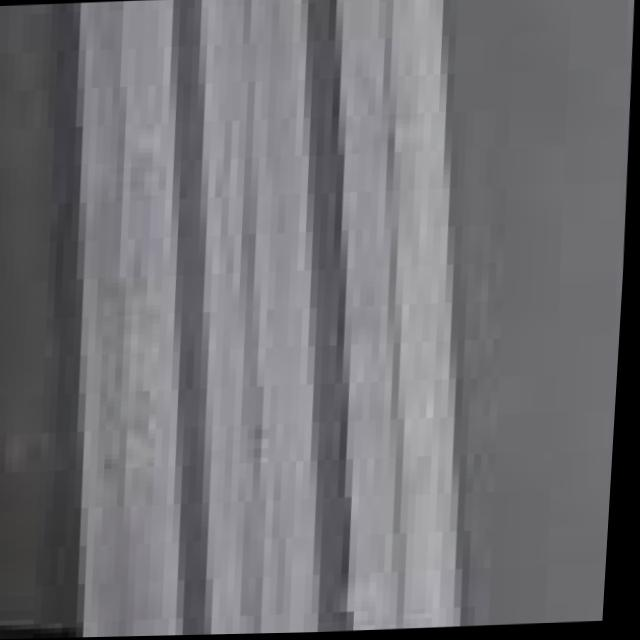metal-plates: (69, 1, 635, 639)
